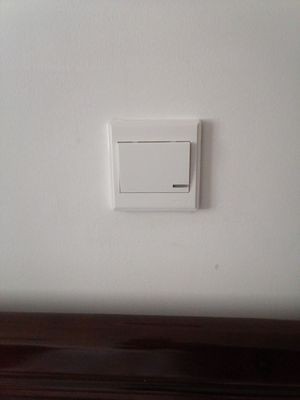switch: (112, 134, 195, 197)
